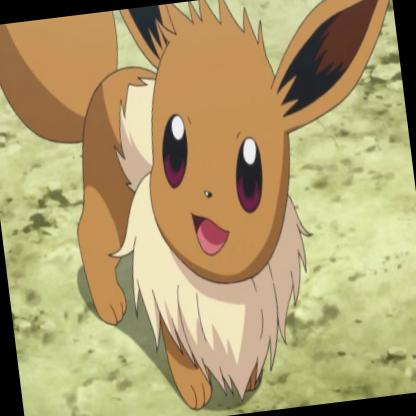Eevee: (23, 1, 399, 416)
